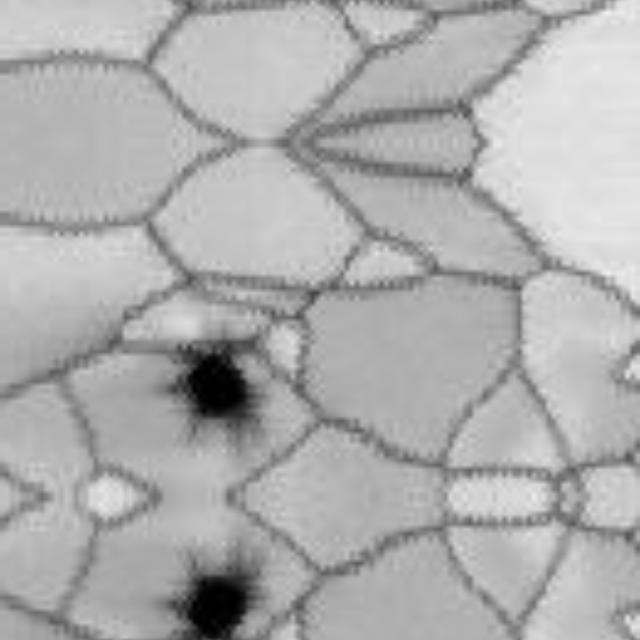good_void: (168, 341, 272, 460), (168, 536, 272, 640)
